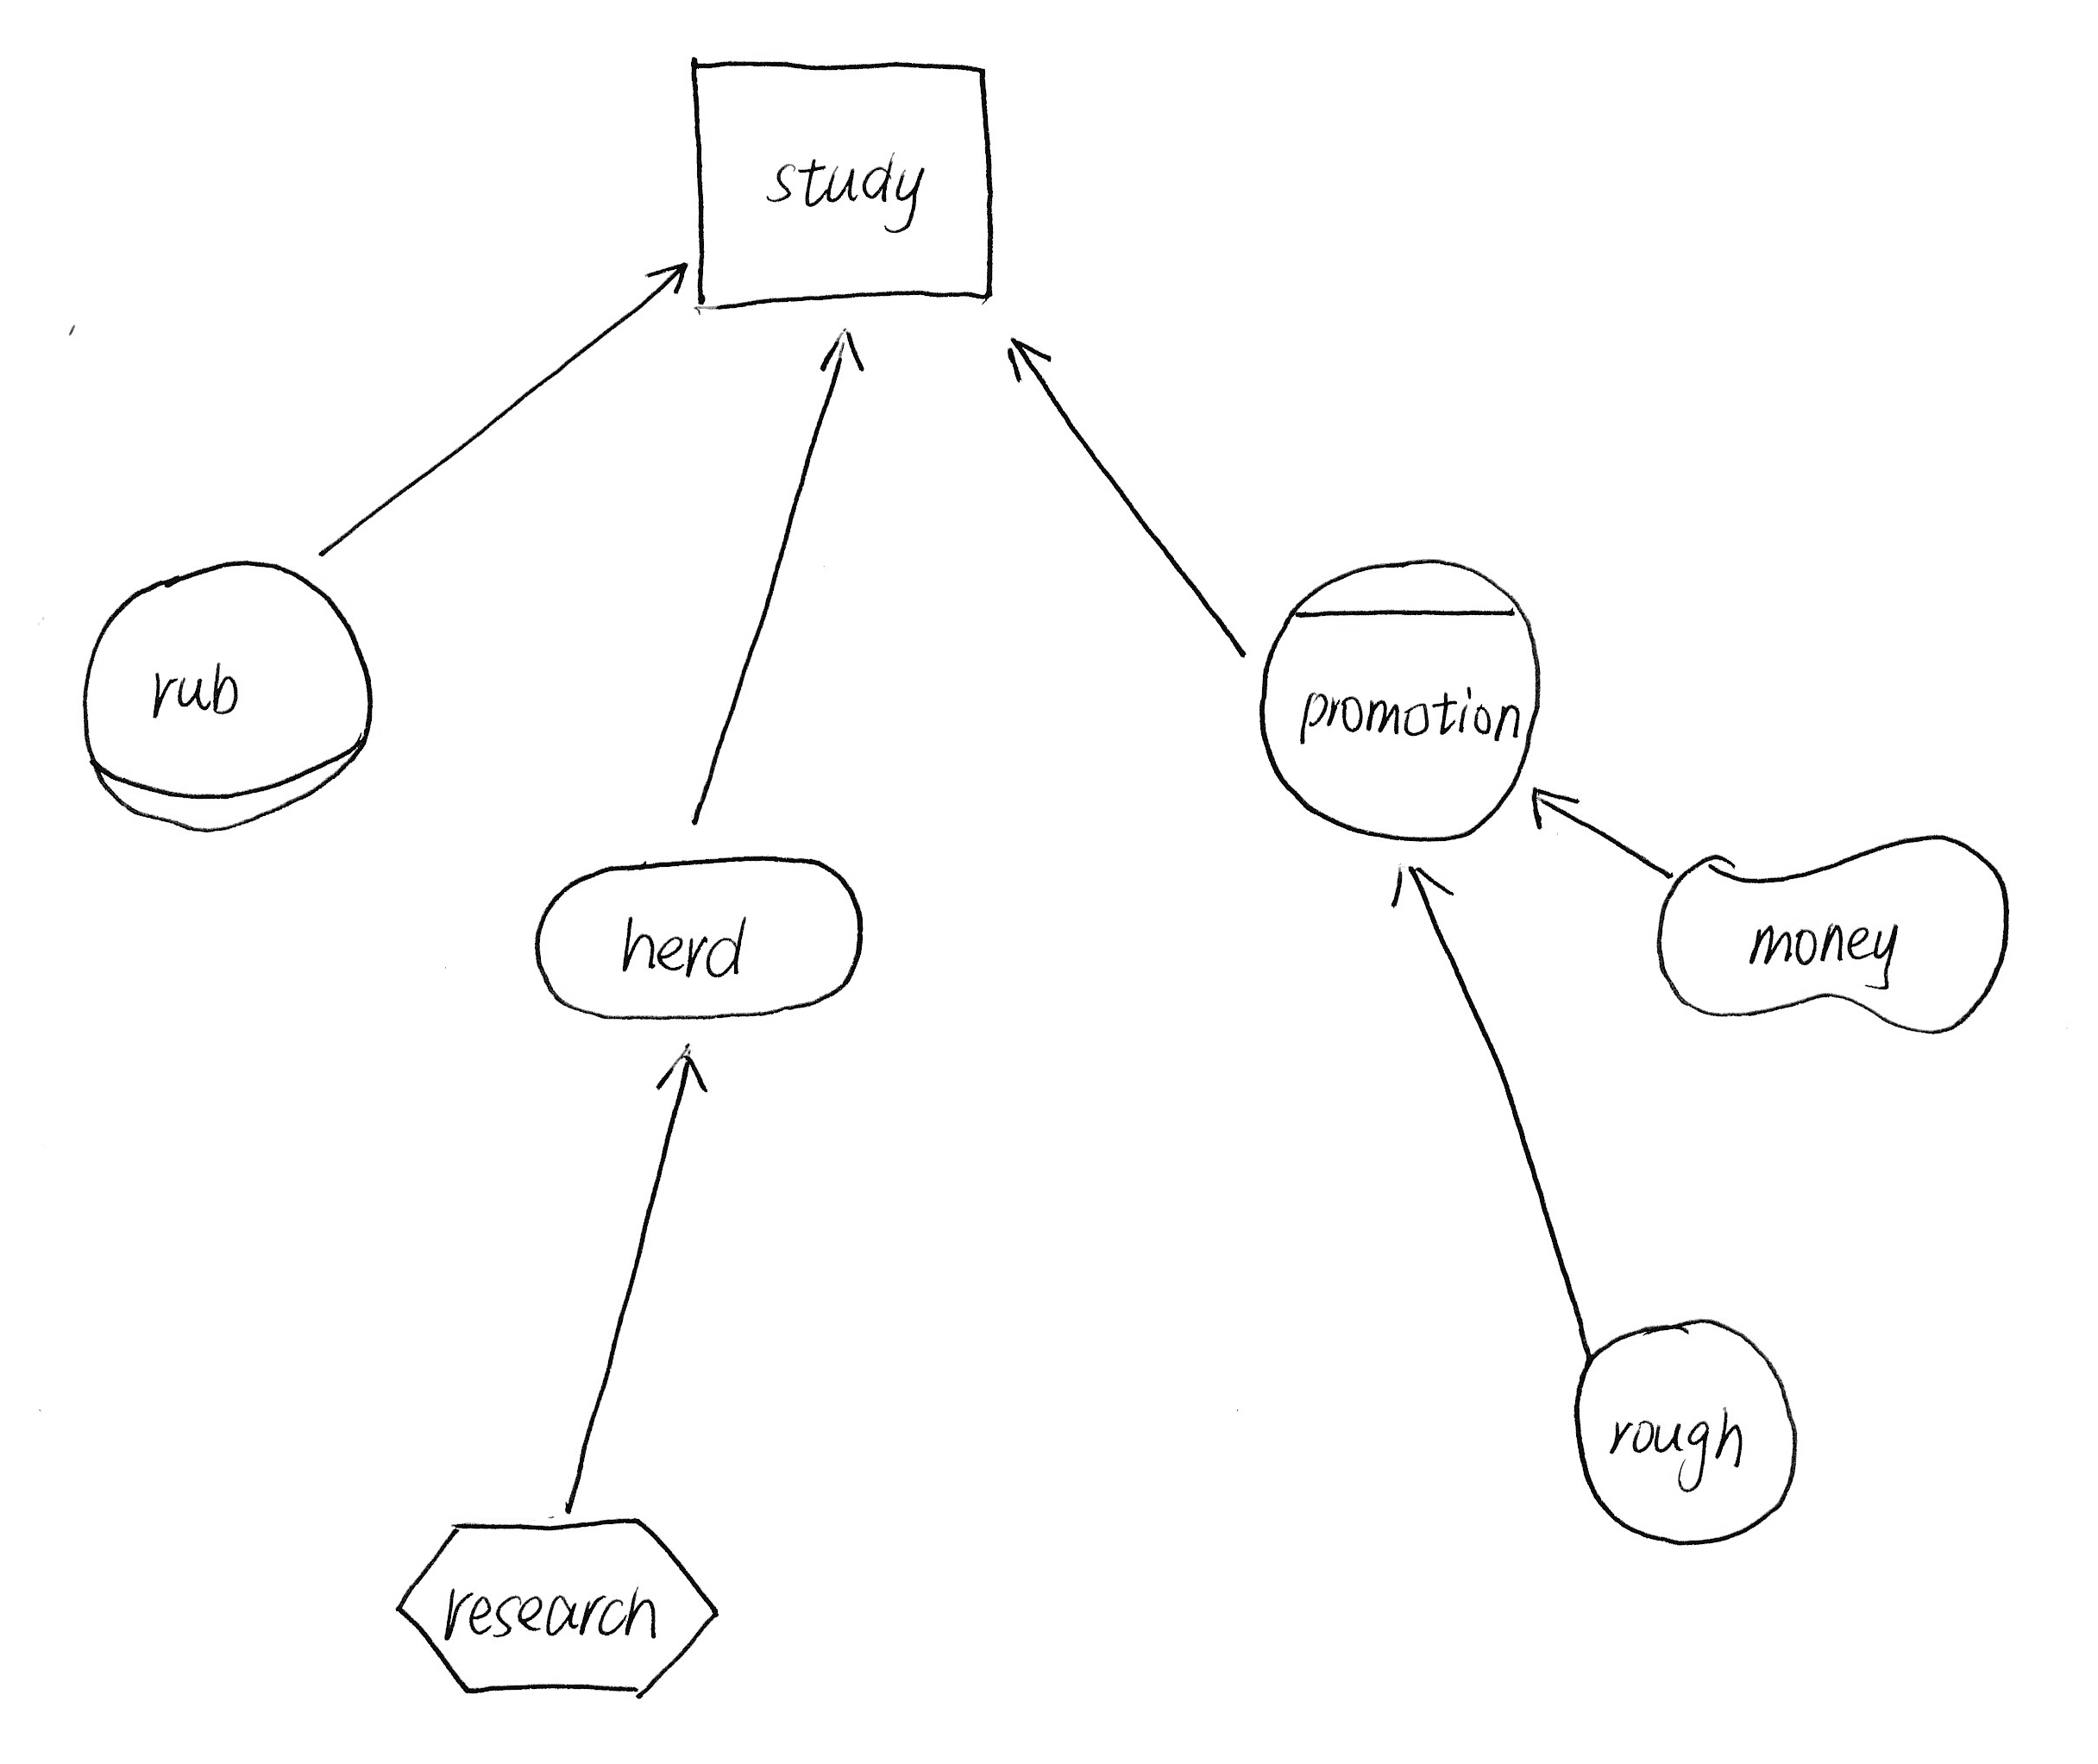actor: (1556, 1305, 1808, 1556)
agent: (1241, 539, 1561, 857)
arrow: (1375, 847, 1470, 933), (992, 315, 1066, 390), (649, 1032, 712, 1113), (803, 315, 877, 383), (639, 245, 702, 317), (1519, 772, 1585, 838)
goal: (513, 835, 885, 1036)
quality: (1641, 815, 2025, 1050)
resource: (675, 40, 1020, 331)
role: (66, 542, 387, 847)
task: (380, 1500, 730, 1708)
